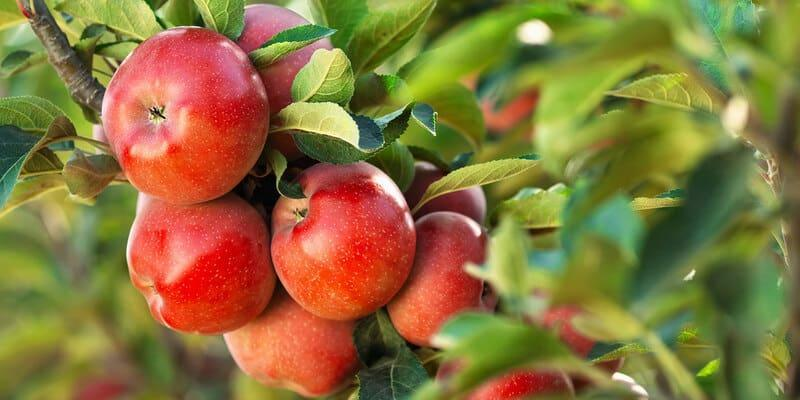apple: (101, 31, 274, 203), (271, 164, 417, 322), (128, 193, 274, 338), (385, 215, 491, 350)
